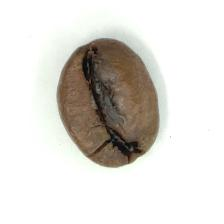NG: (80, 48, 136, 148)
